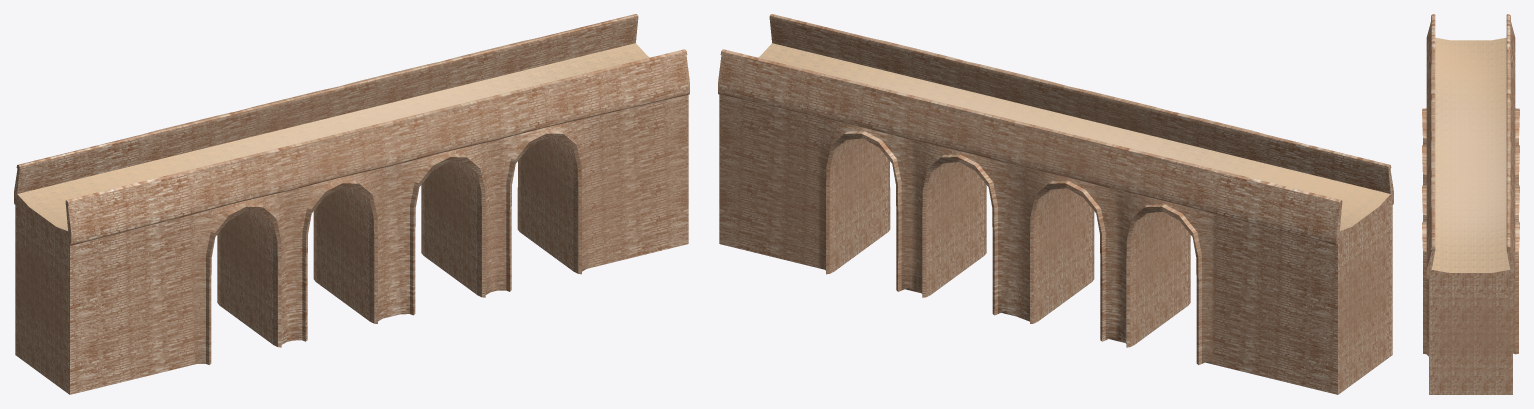
File: Pol.fbx
The picture shows the model from 3 angles, left to right: view 1: azimuth 30°, elevation 25°; view 2: azimuth 150°, elevation 25°; view 3: azimuth 270°, elevation 25°; orthographic projection. The views are drawn at different scales.
Visible parts, largest first — view 1: pCube1; view 2: pCube1; view 3: pCube1.
Boxes of the visible parts, <box> form: pCube1: <box>14,14,689,394</box>; pCube1: <box>718,14,1393,394</box>; pCube1: <box>1422,14,1519,394</box>.
Bounding box in the file's own units: 57.67 × 17.17 × 10.24.
